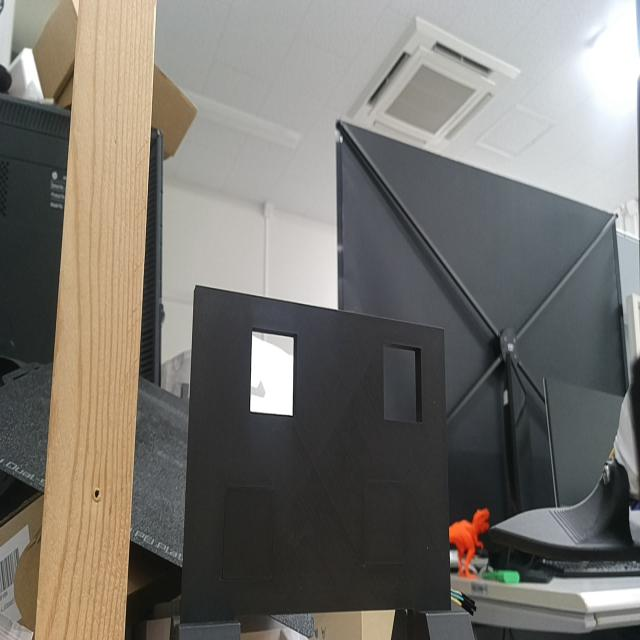Obstacle: (250, 329, 297, 413), (384, 345, 424, 422)
Wall: (183, 285, 451, 611)
